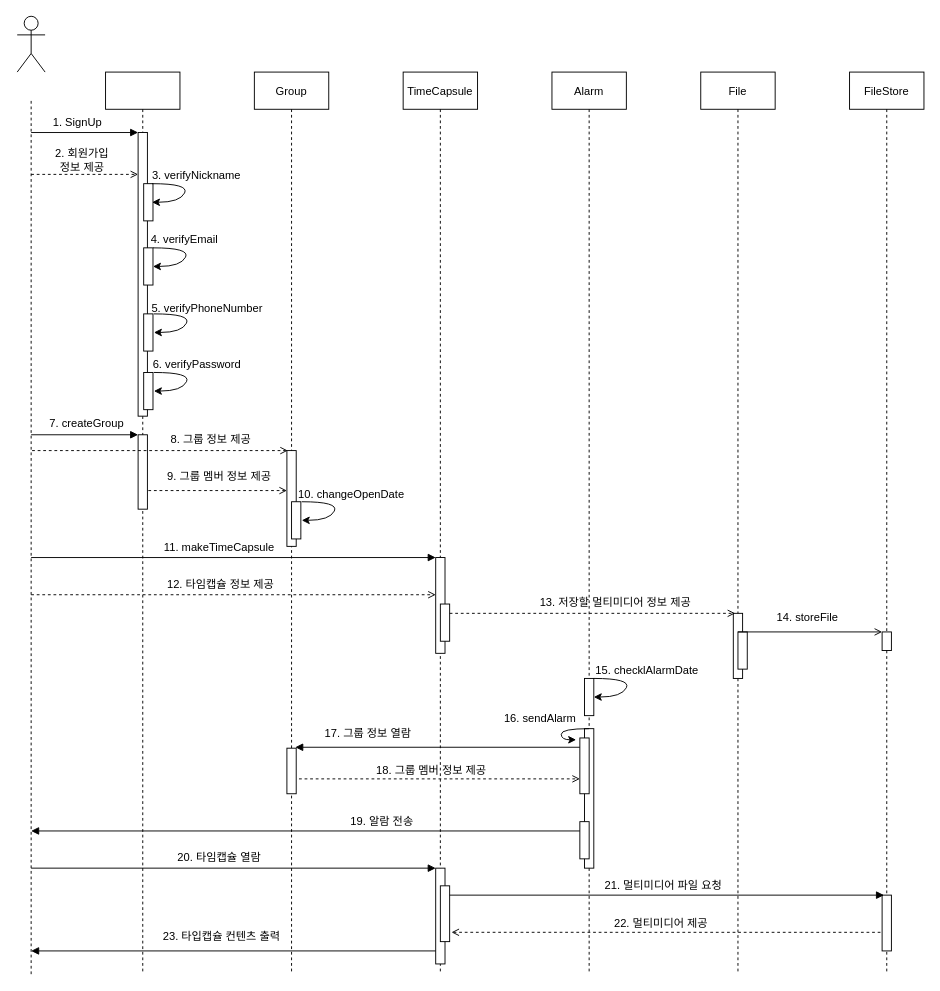
Some shapes in this 940 by 991 pixel diagram are drawn without their labels. The shapes that lost their labels are listed below. From the top down, each one's centre as x and y in pixels, then its label:
At (30,43): "사용자".
At (142,522): "Member".
